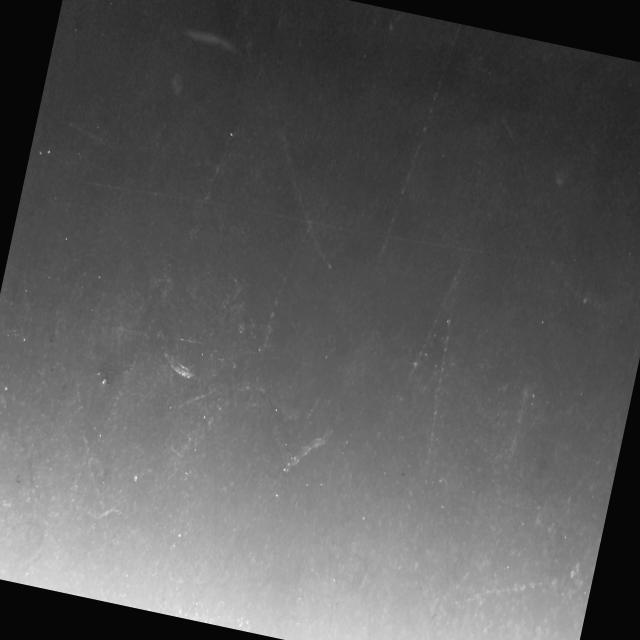beta: (55, 101, 240, 529), (370, 15, 462, 284), (33, 324, 143, 515), (250, 122, 358, 270), (408, 277, 470, 489), (388, 256, 463, 427), (260, 187, 329, 353), (446, 556, 560, 628), (502, 382, 550, 468), (52, 116, 114, 152), (173, 379, 214, 418), (91, 504, 127, 528)
